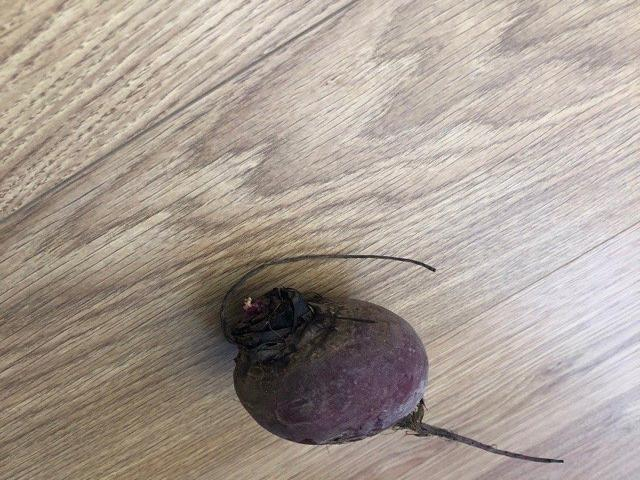beet: (223, 254, 564, 463)
